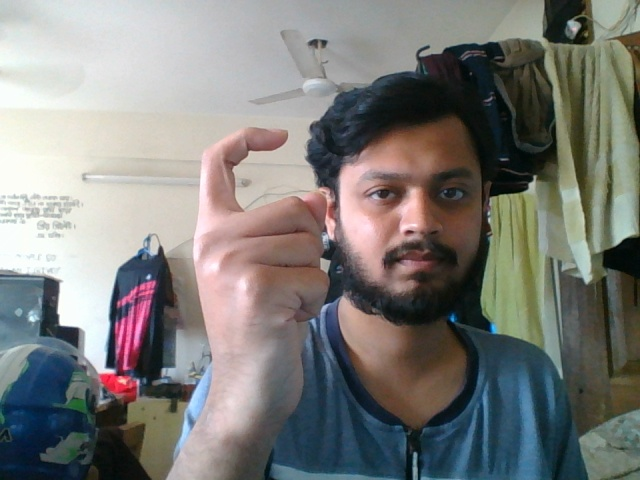e: (173, 120, 348, 464)
